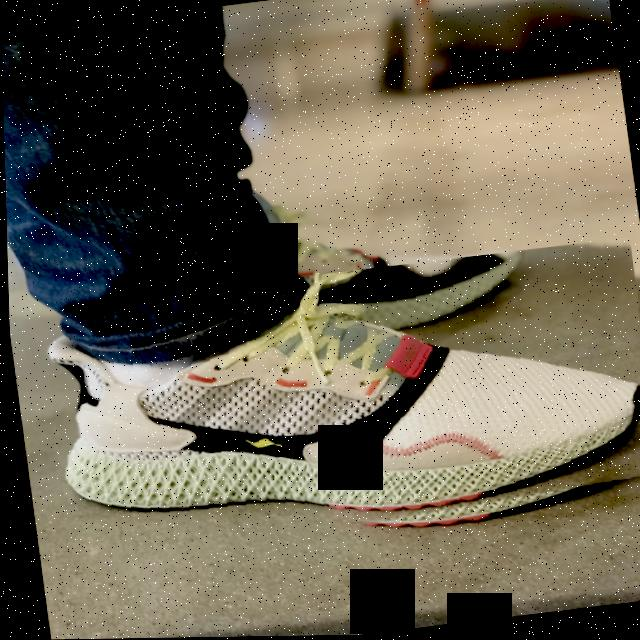shoe: (35, 239, 640, 575), (254, 168, 536, 362)
